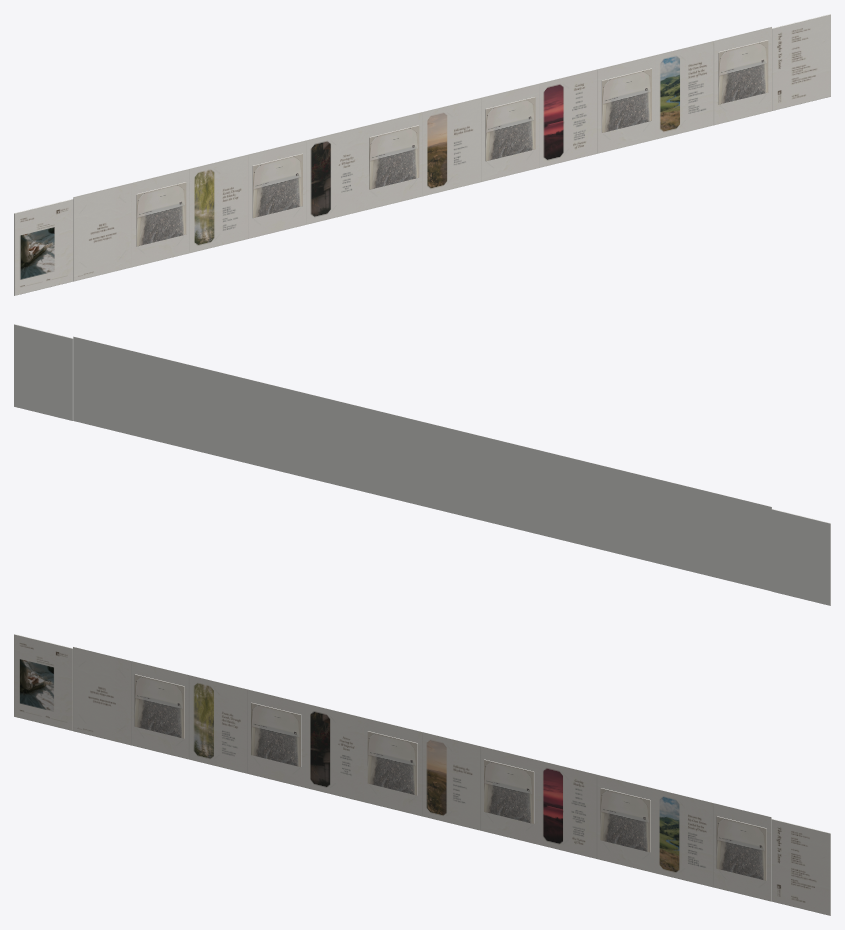
The model's file is accordion.glb.
The picture shows the model from 3 angles, top to bottom: view 1: azimuth 30°, elevation 25°; view 2: azimuth 150°, elevation 25°; view 3: azimuth 330°, elevation 25°; orthographic projection.
Visible parts, largest first — view 1: acc_p00, acc_p10, acc_p08, acc_p06, acc_p04, acc_p02, acc_cover_f, acc_cover_b, acc_pouch11, acc_pouch07, acc_pouch05, acc_pouch09 (+8 smaller); view 2: acc_p11, acc_p07, acc_p02, acc_p06, acc_p01, acc_p09, acc_p04, acc_p10, acc_p05, acc_p00, acc_cover_f, acc_cover_b (+2 smaller); view 3: acc_p10, acc_p06, acc_p02, acc_p08, acc_p00, acc_p04, acc_cover_b, acc_cover_f, acc_pouch11, acc_pouch09, acc_pouch07, acc_pouch05 (+8 smaller).
Part boxes in pixels (<box>): acc_p00: <box>73,183,131,281</box>; acc_p10: <box>655,41,713,139</box>; acc_p08: <box>539,69,597,167</box>; acc_p06: <box>422,97,480,196</box>; acc_p04: <box>306,126,364,224</box>; acc_p02: <box>190,154,248,252</box>; acc_cover_f: <box>14,199,73,295</box>; acc_cover_b: <box>772,14,830,110</box>; acc_pouch11: <box>718,40,768,104</box>; acc_pouch07: <box>485,97,535,161</box>; acc_pouch05: <box>369,125,419,189</box>; acc_pouch09: <box>601,68,651,132</box>; acc_p11: <box>73,336,131,434</box>; acc_p07: <box>306,393,364,491</box>; acc_p02: <box>597,464,655,562</box>; acc_p06: <box>364,407,422,505</box>; acc_p01: <box>655,478,713,576</box>; acc_p09: <box>189,365,247,463</box>; acc_p04: <box>480,436,538,534</box>; acc_p10: <box>131,351,189,449</box>; acc_p05: <box>422,422,480,520</box>; acc_p00: <box>713,493,771,591</box>; acc_cover_f: <box>771,509,830,605</box>; acc_cover_b: <box>14,324,73,420</box>; acc_p10: <box>655,788,713,887</box>; acc_p06: <box>422,732,480,830</box>; acc_p02: <box>189,675,247,773</box>; acc_p08: <box>538,760,596,858</box>; acc_p00: <box>73,646,131,745</box>; acc_p04: <box>305,703,363,801</box>; acc_cover_b: <box>771,819,830,915</box>; acc_cover_f: <box>14,634,72,730</box>; acc_pouch11: <box>716,816,766,880</box>; acc_pouch09: <box>600,788,650,852</box>; acc_pouch07: <box>484,759,534,823</box>; acc_pouch05: <box>367,731,417,795</box>.
Bounding box in the file's own units: 1.82 × 0.18 × 0.0047.
16 materials, 15 textured.
